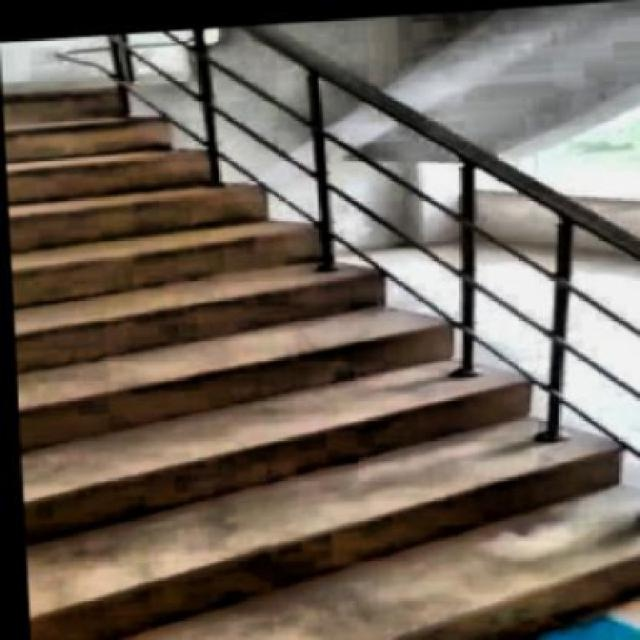stair: (3, 38, 640, 638)
